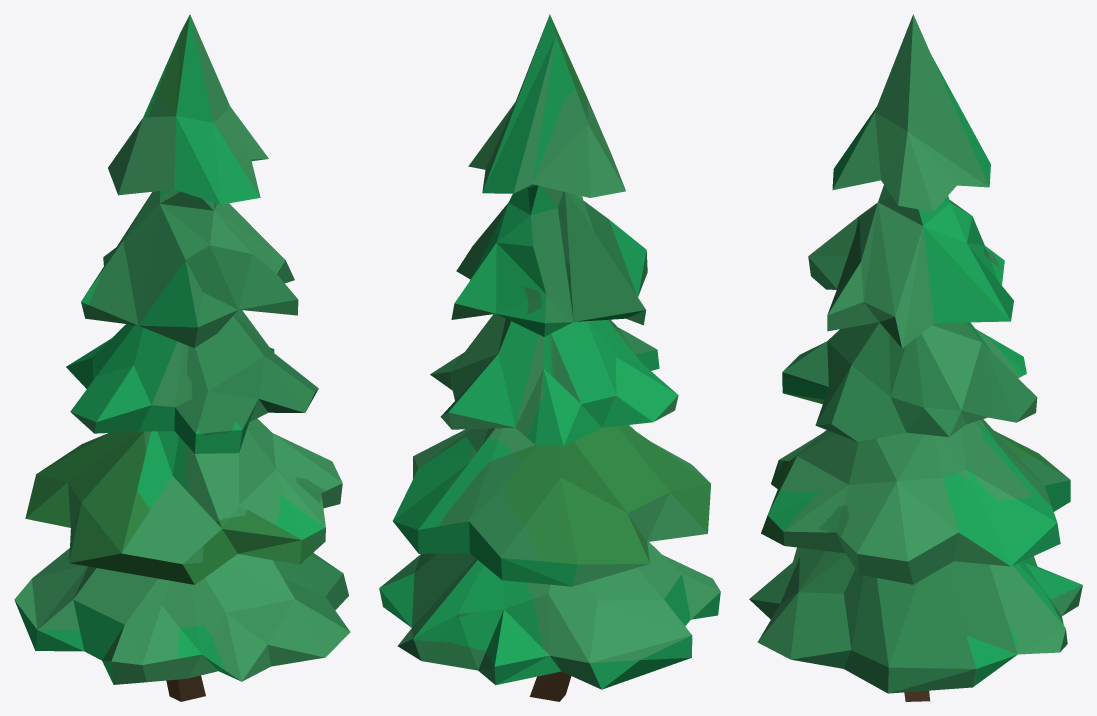
The model's file is Tree_LOD_Two.obj.
The picture shows the model from 3 angles, left to right: view 1: azimuth 30°, elevation 25°; view 2: azimuth 150°, elevation 25°; view 3: azimuth 270°, elevation 25°; orthographic projection.
Visible parts, largest first — view 1: _8_tree_Cube.007; view 2: _8_tree_Cube.007; view 3: _8_tree_Cube.007.
Boxes of the visible parts, box(x1,y1,x2,y2) form: _8_tree_Cube.007: box(14, 14, 350, 701); _8_tree_Cube.007: box(379, 14, 720, 701); _8_tree_Cube.007: box(749, 14, 1082, 701).
Bounding box in the file's own units: 0.9372 × 2.07 × 0.9183.
1 material, 1 textured.
